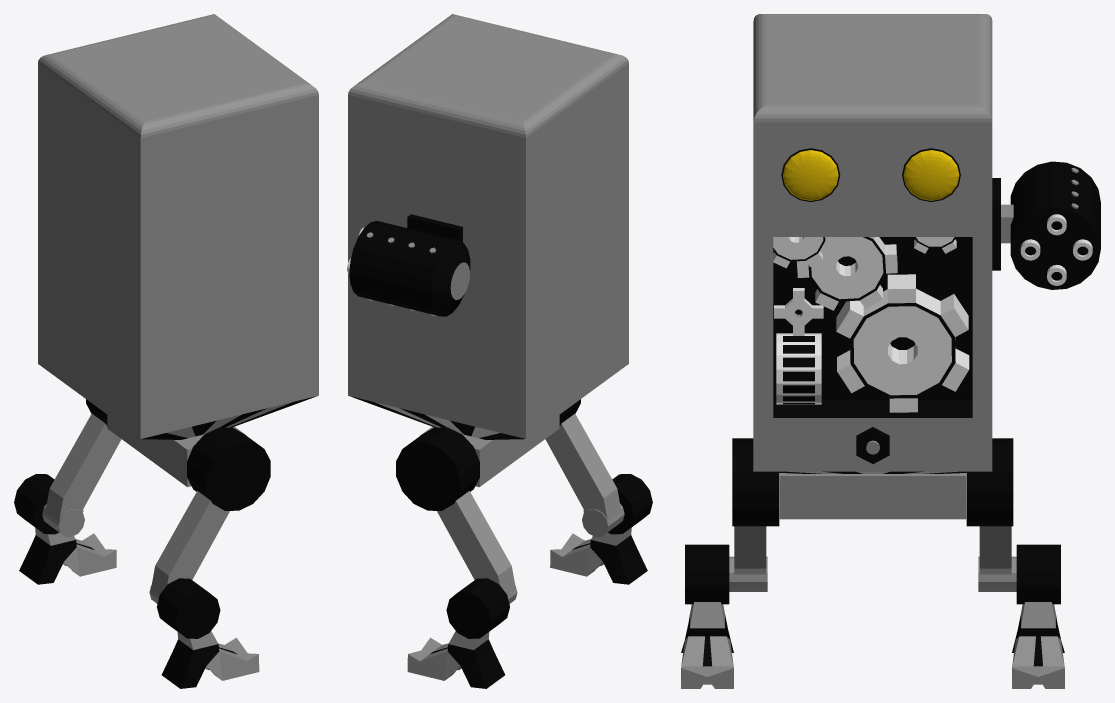
File: big-robot.fbx
3 renders of one model, left to right at view 1: azimuth 30°, elevation 25°; view 2: azimuth 150°, elevation 25°; view 3: azimuth 270°, elevation 25°, orthographic. The views are drawn at different scales.
Visible parts, largest first — view 1: Torso, Legs; view 2: Torso, Legs, Gun; view 3: Torso, Legs, Gun, Sphere.
Boxes of the visible parts, box(x1,y1,x2,y2) form: Torso: box(38, 14, 318, 487); Legs: box(14, 399, 270, 688); Torso: box(348, 14, 628, 487); Legs: box(396, 399, 652, 688); Gun: box(347, 214, 470, 316); Torso: box(753, 14, 992, 519); Legs: box(681, 438, 1064, 688); Gun: box(992, 161, 1100, 289); Sphere: box(781, 148, 960, 201).
Bounding box in the file's own units: 249 × 698 × 422.
